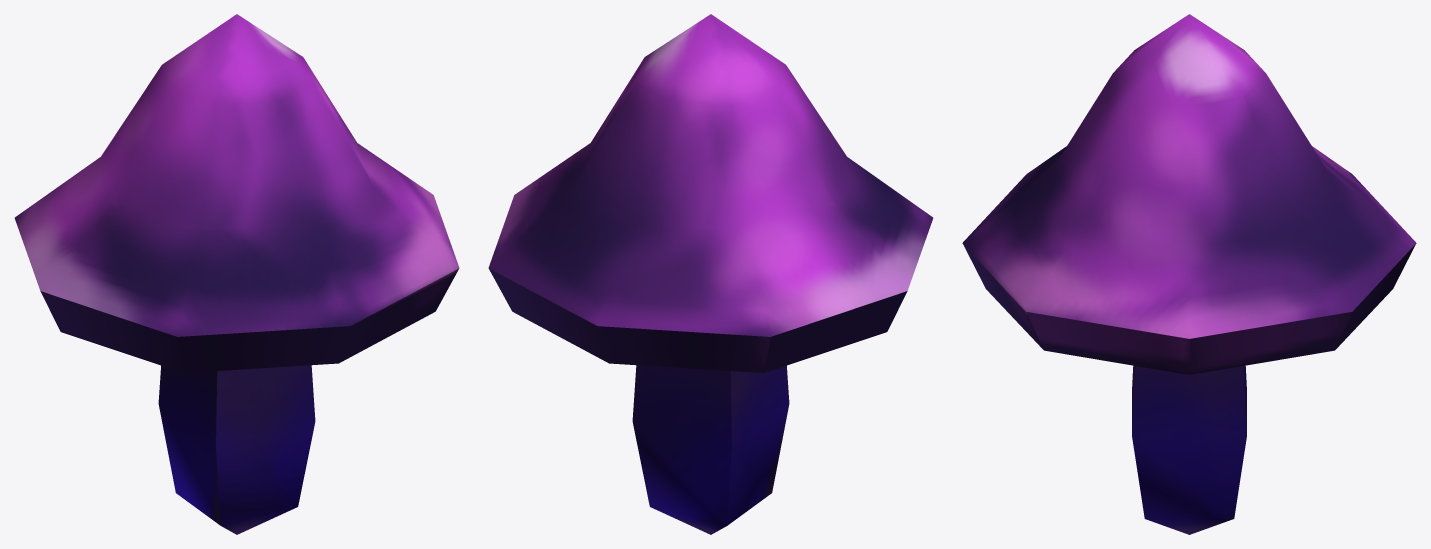
The model's file is Prim_CorruptedFlora_Mushrom.fbx.
3 renders of one model, left to right at view 1: azimuth 30°, elevation 25°; view 2: azimuth 150°, elevation 25°; view 3: azimuth 270°, elevation 25°, orthographic.
Visible parts, largest first — view 1: Prim_CorruptedFlora_Mushrom; view 2: Prim_CorruptedFlora_Mushrom; view 3: Prim_CorruptedFlora_Mushrom.
Boxes of the visible parts, x1,y1,x2,y2 form: Prim_CorruptedFlora_Mushrom: (14, 14, 459, 534); Prim_CorruptedFlora_Mushrom: (488, 14, 933, 534); Prim_CorruptedFlora_Mushrom: (962, 14, 1416, 534).
Size of the model in its own units: 174 by 220 by 174.
